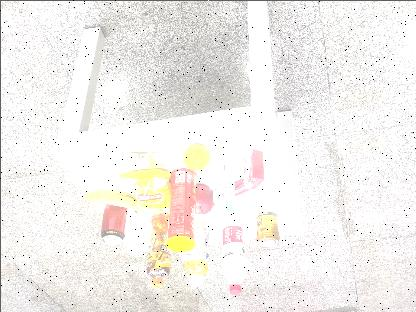Can: (252, 209, 280, 248), (100, 202, 126, 244)
Others: (166, 169, 194, 252), (210, 162, 235, 212), (240, 146, 265, 190)
Plastic Bottle: (216, 214, 252, 296)
